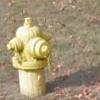Hydrant: (6, 9, 60, 100)
